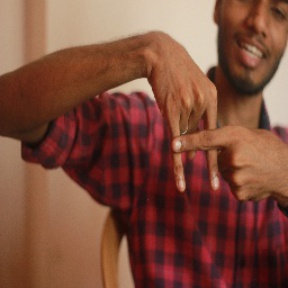H: (143, 94, 248, 208)
